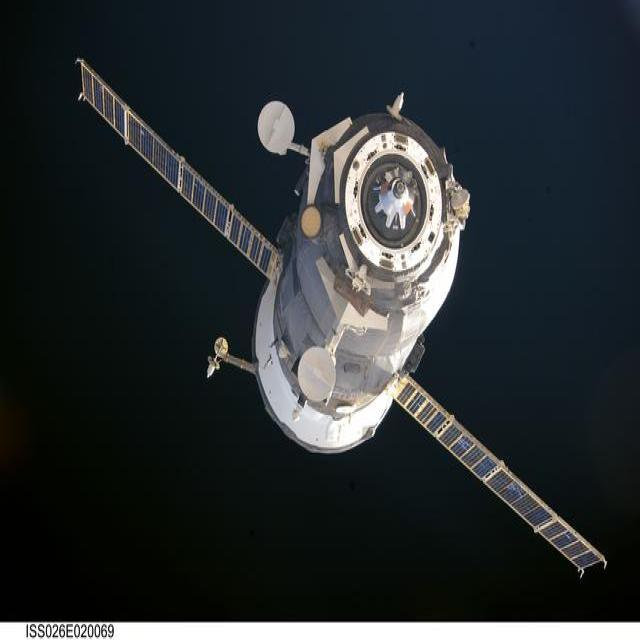satellite: (79, 61, 605, 573)
